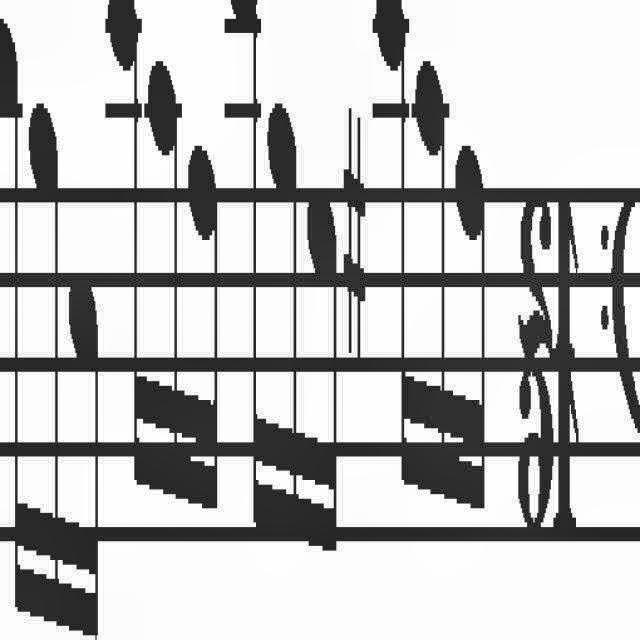Diez: (344, 102, 366, 366)
Sixteenth-note: (108, 1, 144, 500), (374, 0, 410, 494), (28, 99, 62, 622), (411, 55, 449, 519), (228, 0, 260, 546), (148, 51, 185, 523), (266, 91, 298, 564), (0, 9, 24, 635), (187, 132, 220, 548), (454, 133, 486, 523), (67, 276, 101, 640), (306, 182, 338, 560)
